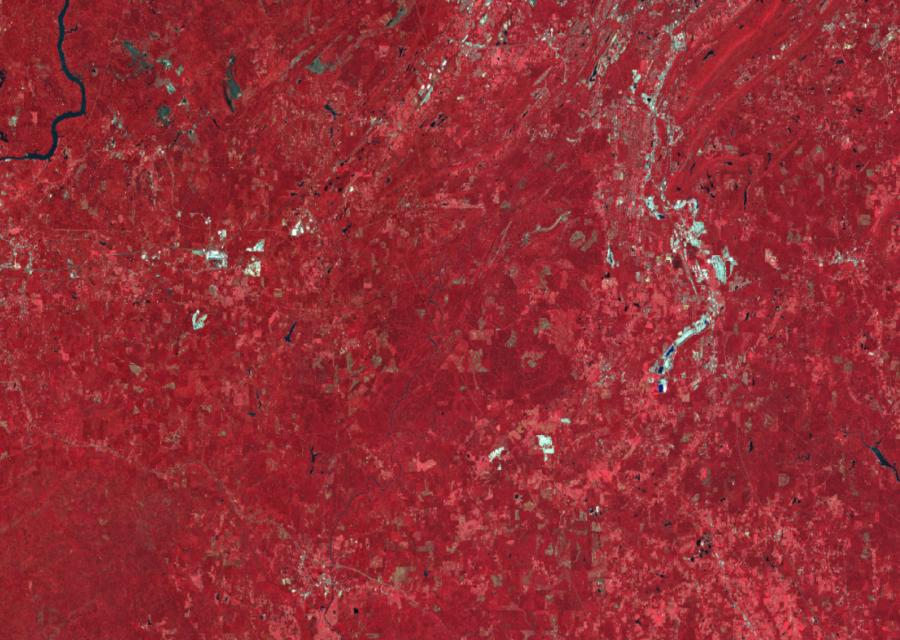Potential Lime Manufacturing Facility: (676, 220, 736, 286), (658, 318, 709, 392)
